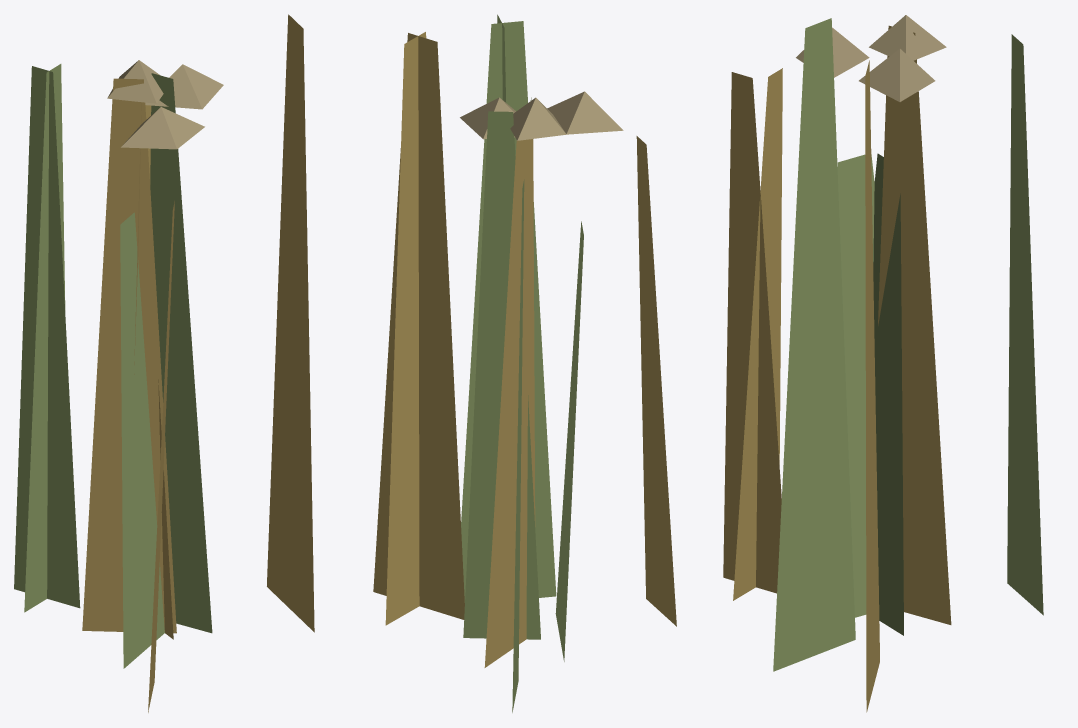
Rendered from shrub.sub.reed_clump__autumn.glb.
The picture shows the model from 3 angles, left to right: view 1: azimuth 30°, elevation 25°; view 2: azimuth 150°, elevation 25°; view 3: azimuth 270°, elevation 25°; orthographic projection. The views are drawn at different scales.
Parts seen in each view (by area): view 1: shrub.sub.reed_clump__autumn; view 2: shrub.sub.reed_clump__autumn; view 3: shrub.sub.reed_clump__autumn.
Part boxes in pixels (left/top/right/bottom): shrub.sub.reed_clump__autumn: left=14, top=14, right=314, bottom=712; shrub.sub.reed_clump__autumn: left=373, top=14, right=676, bottom=712; shrub.sub.reed_clump__autumn: left=723, top=15, right=1043, bottom=712.
Size of the model in its own units: 0.9425 by 1.99 by 0.9655.
